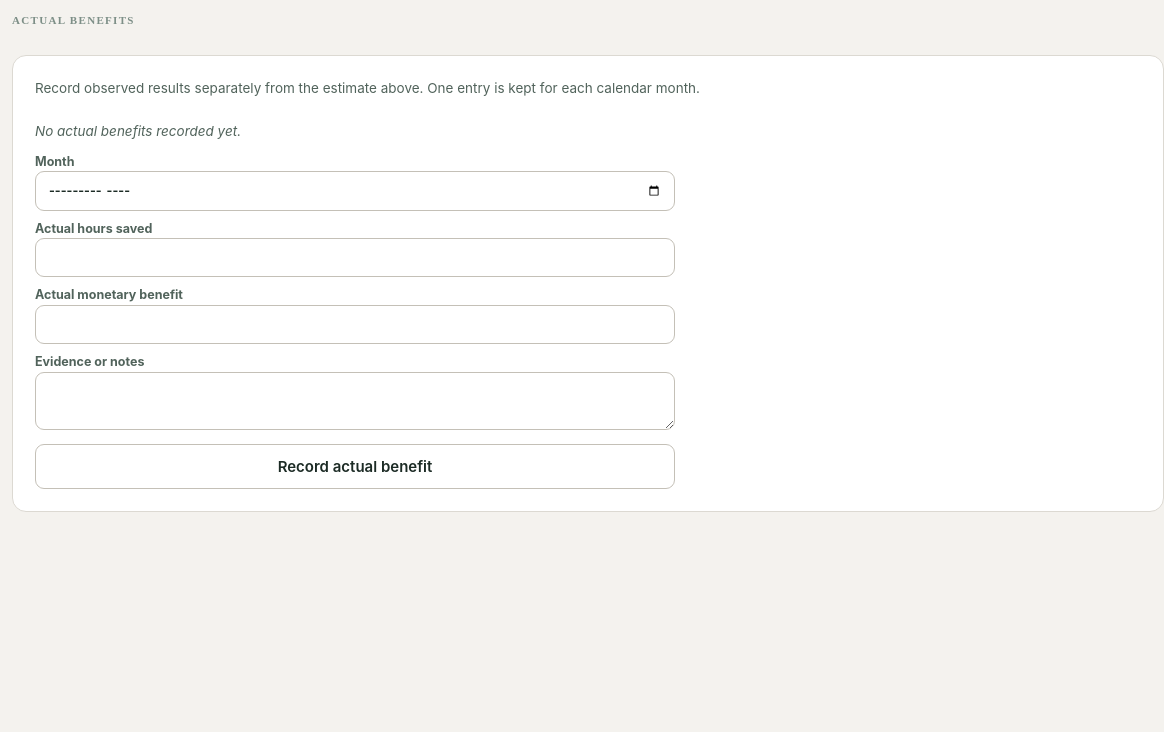
Test: P1 collaboration and configuration features › validates and displays an error when recording actual benefits fails
In the field labelled "Month": [355, 191] box [35,171,675,211], type "2026-10"
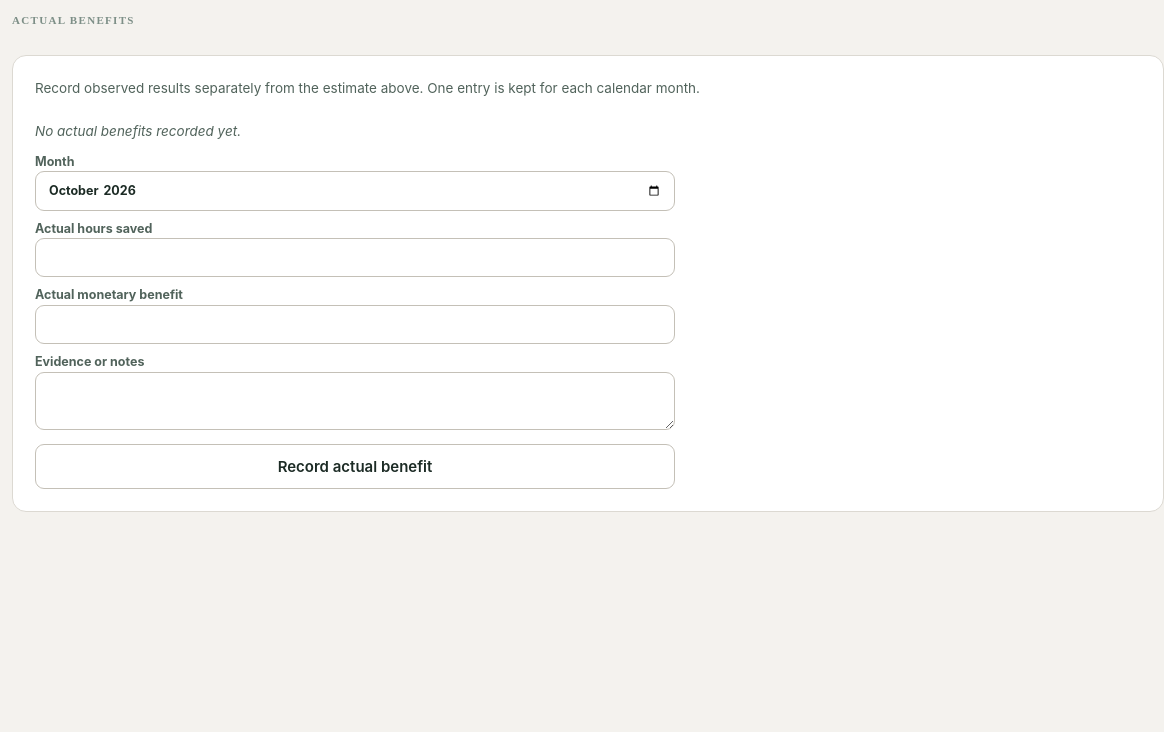
Click the button "Record actual benefit": [355, 466] box [35,444,675,489]
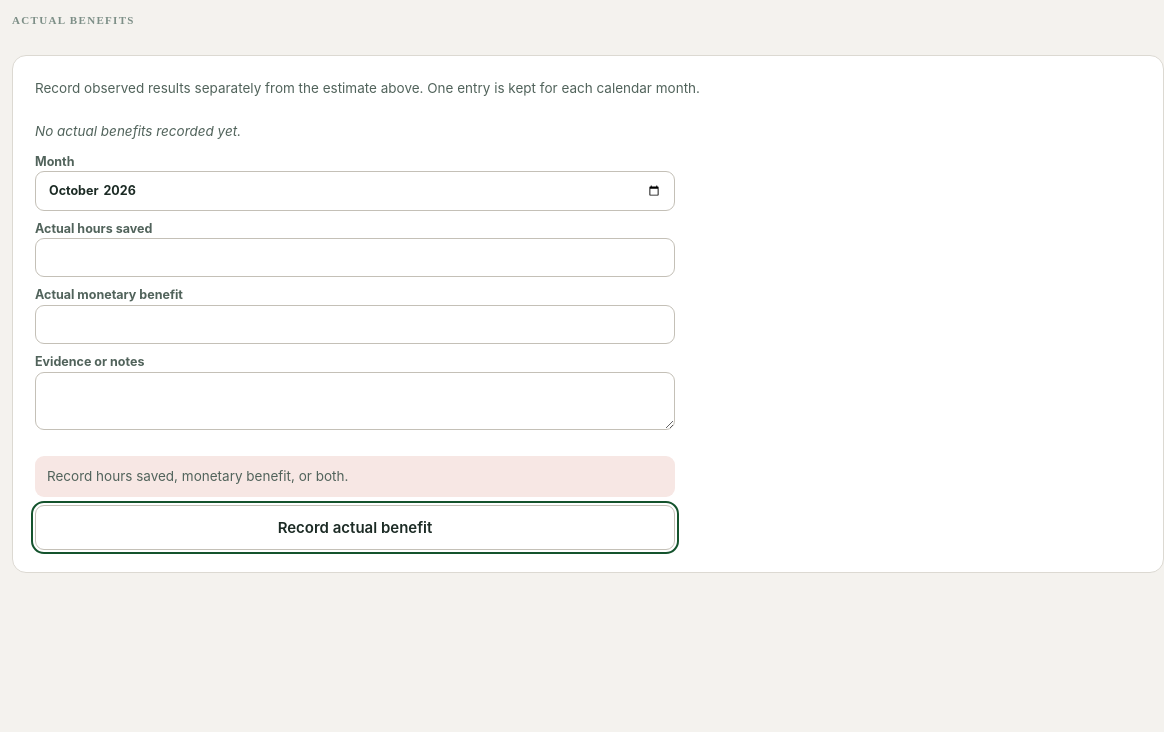
expect the message reads "Record hours saved, monetary benefit, or both.": met, box [47,468,348,484]
In the number field labelled "Actual monetary benefit": [355, 324] box [35,305,675,344], type "10"
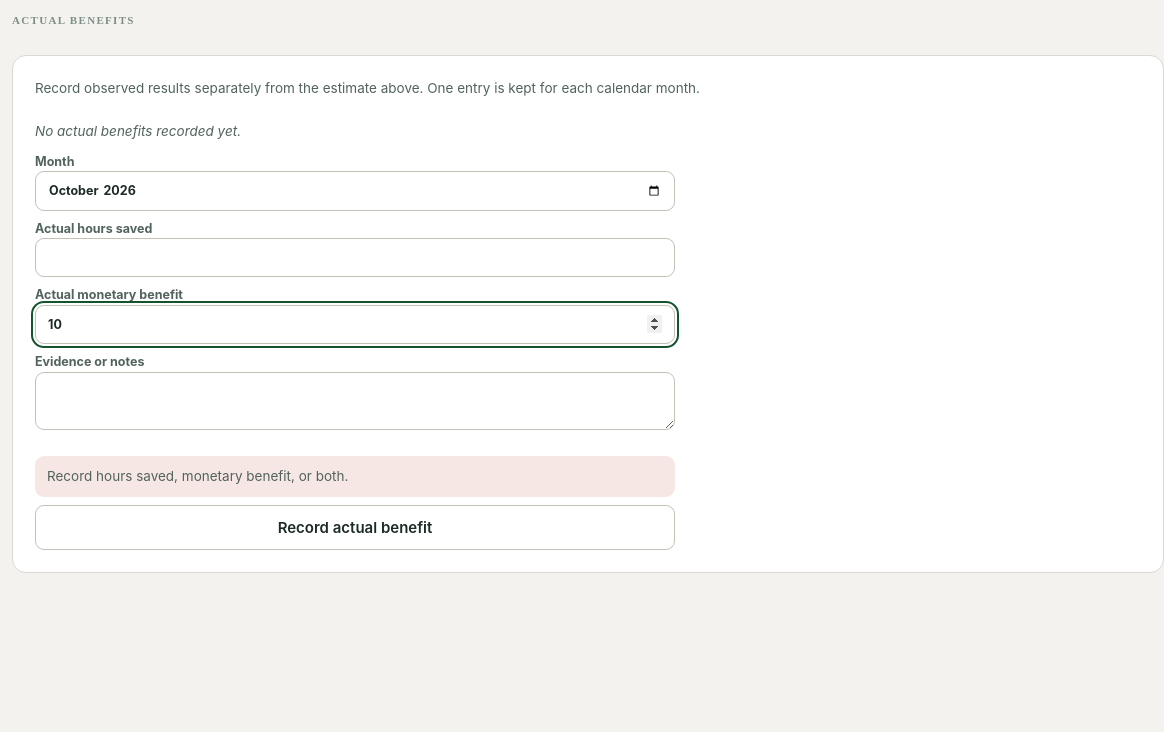
Click the button "Record actual benefit": [355, 527] box [35,505,675,550]
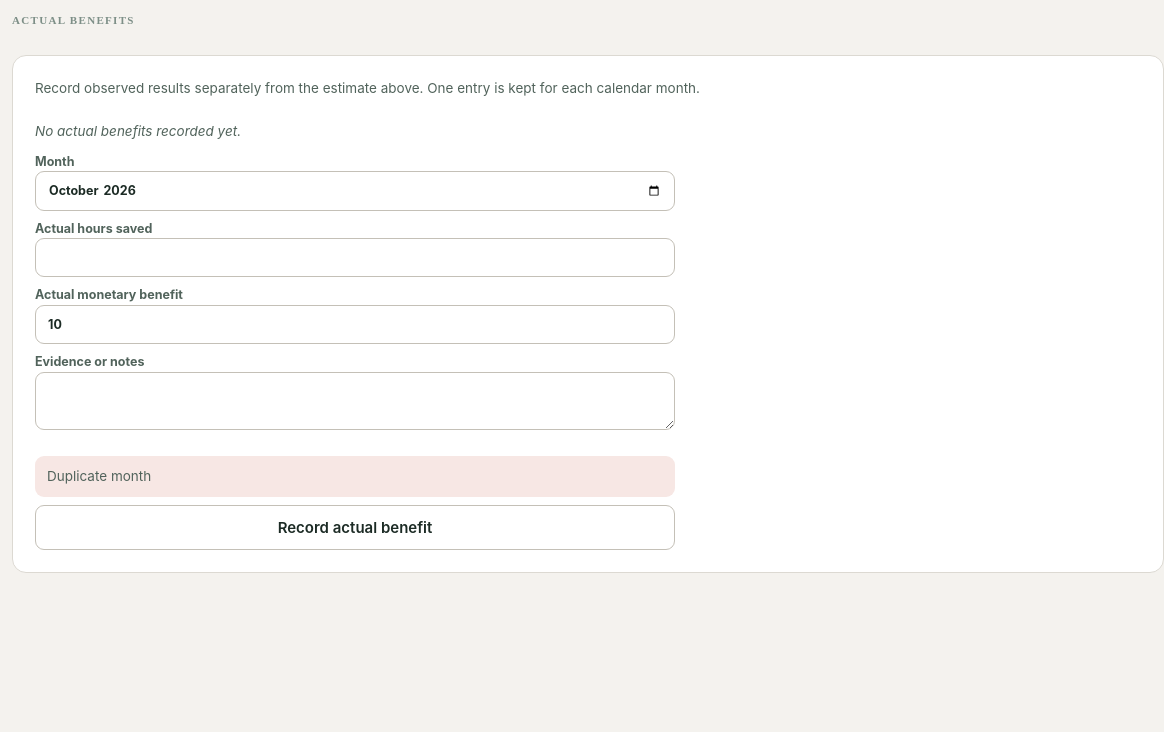
expect the message reads "Duplicate month": met, box [47,468,151,484]
